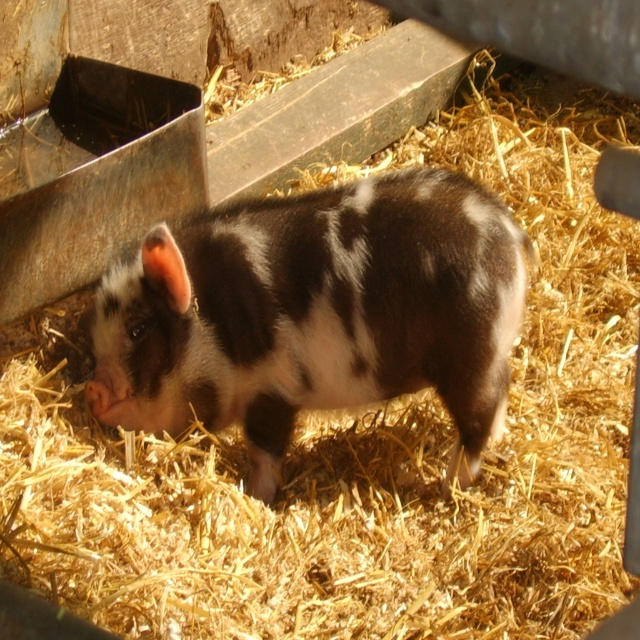Pig: (84, 159, 538, 508)
